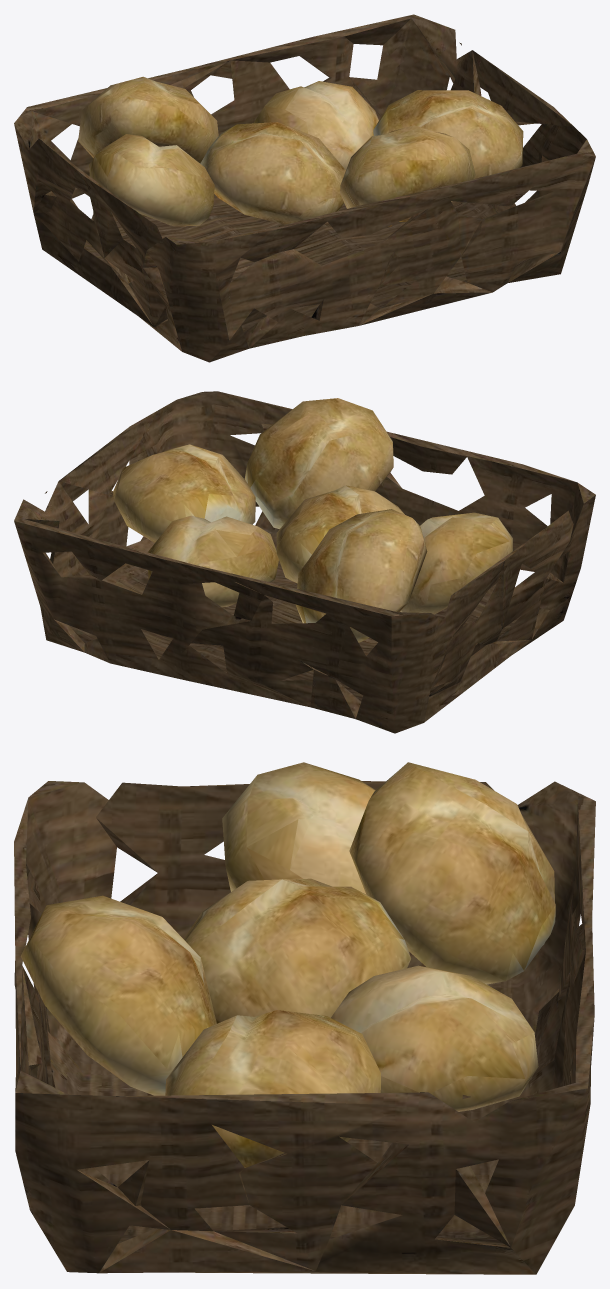
File: RollBasket.glb
The picture shows the model from 3 angles, top to bottom: view 1: azimuth 30°, elevation 25°; view 2: azimuth 150°, elevation 25°; view 3: azimuth 270°, elevation 25°; orthographic projection. The views are drawn at different scales.
Parts seen in each view (by area): view 1: RollBasket; view 2: RollBasket; view 3: RollBasket.
Part boxes in pixels (<box>): RollBasket: <box>14,14,595,362</box>; RollBasket: <box>14,391,595,733</box>; RollBasket: <box>14,762,595,1274</box>.
Bounding box in the file's own units: 0.3737 × 0.1485 × 0.2845.
Materials: 2 (2 with a texture image).
